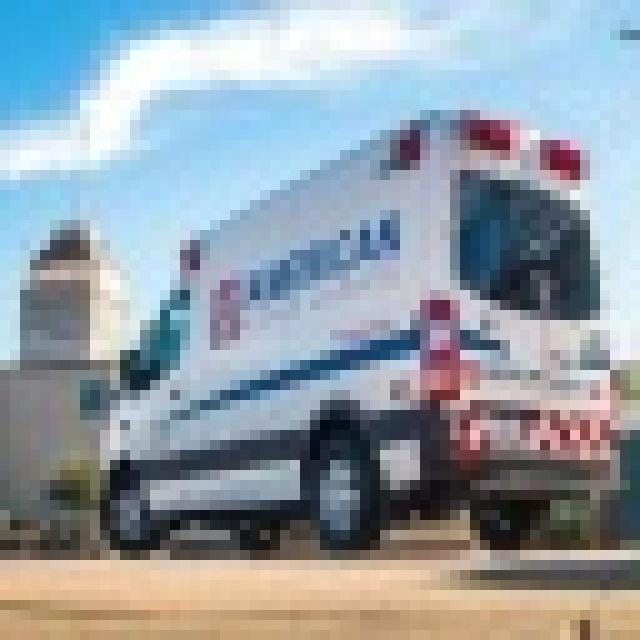Ambulance: (90, 100, 620, 550)
